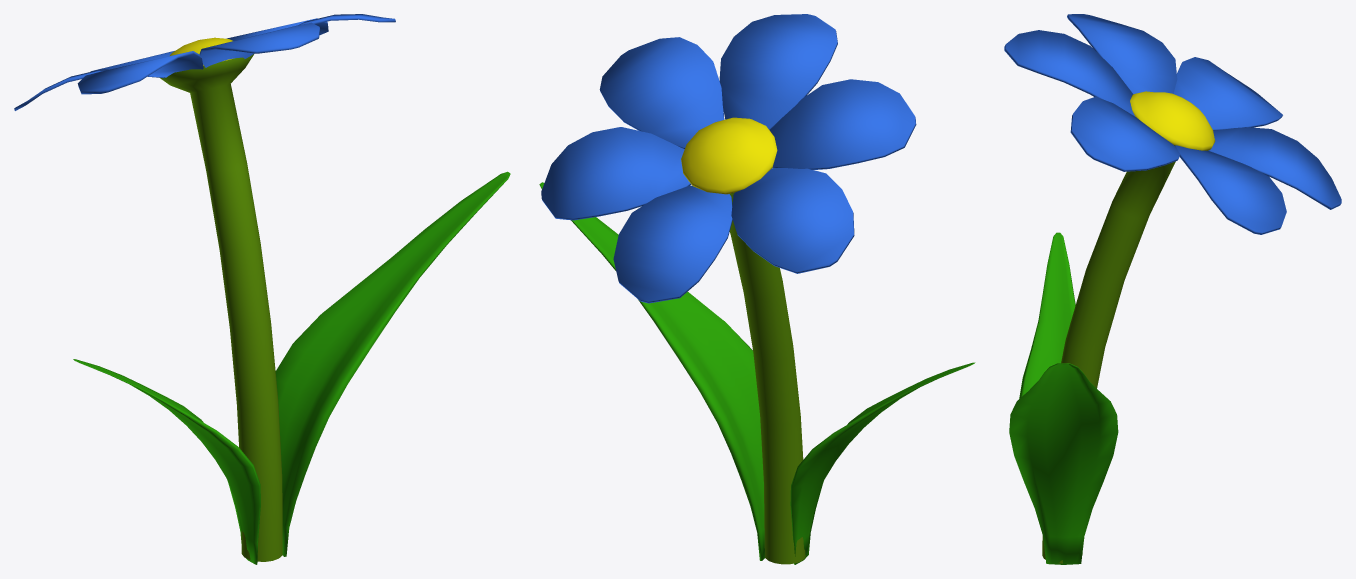
Rendered from Flower.fbx.
3 views of the same model, side by side, from view 1: azimuth 30°, elevation 25°; view 2: azimuth 150°, elevation 25°; view 3: azimuth 270°, elevation 25° (orthographic). The views are drawn at different scales.
Parts seen in each view (by area): view 1: Flower; view 2: Flower; view 3: Flower.
Part boxes in pixels (<box>): Flower: <box>14,14,510,564</box>; Flower: <box>539,14,975,564</box>; Flower: <box>1004,14,1341,564</box>.
Bounding box in the file's own units: 28.99 × 33.5 × 20.01.
